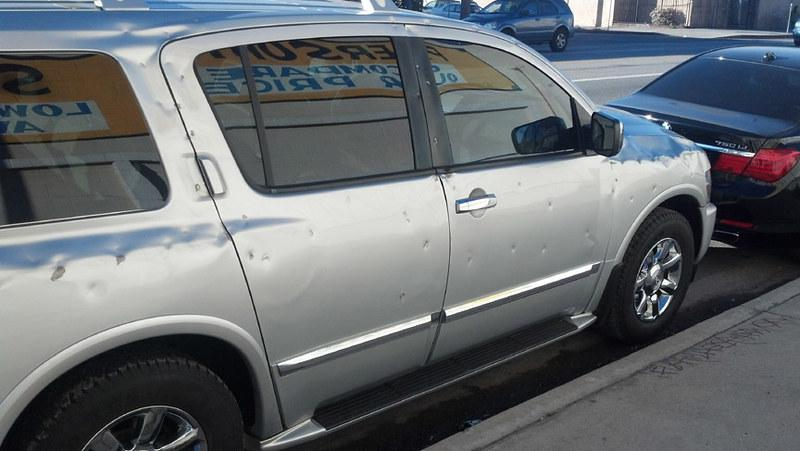doorouter-dent: (266, 199, 447, 427), (440, 173, 603, 344)
fender-dent: (605, 124, 719, 255)
pillar-dent: (128, 51, 244, 214)
quaterpanel-dent: (0, 198, 207, 401)
